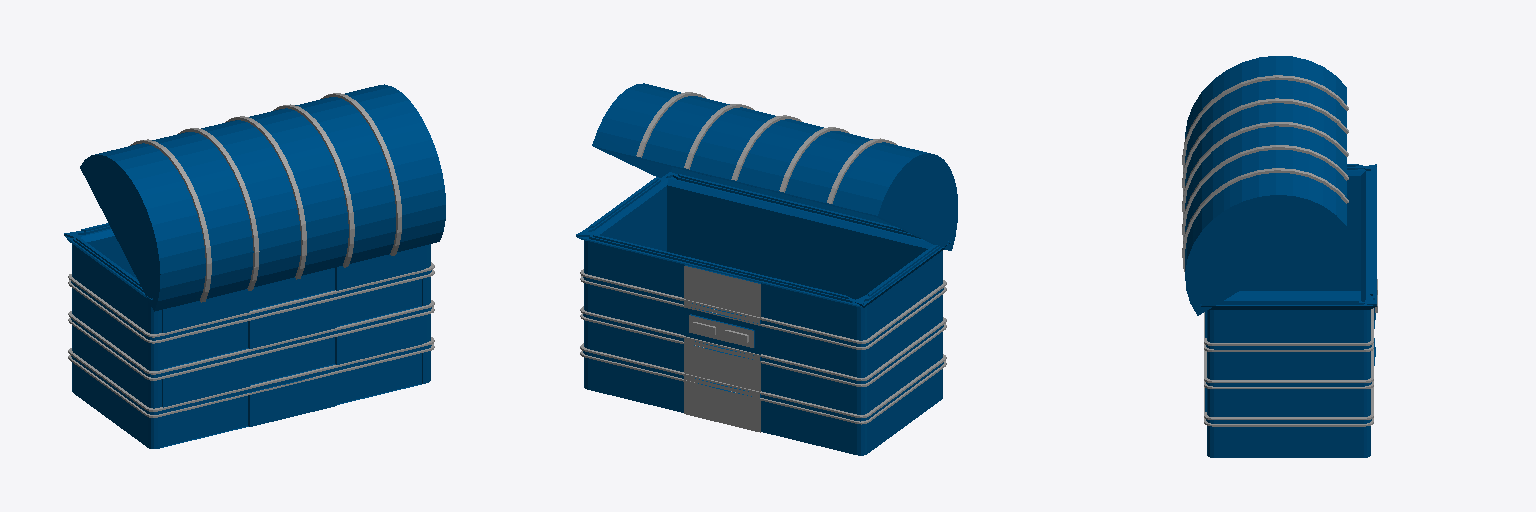
The picture shows the model from 3 angles: view 1: azimuth 30°, elevation 25°; view 2: azimuth 150°, elevation 25°; view 3: azimuth 270°, elevation 25°; orthographic projection.
Parts seen in each view (by area): view 1: Cylinder, Cube; view 2: Cube, Cylinder; view 3: Cube, Cylinder.
Boxes of the visible parts, box(x1,y1,x2,y2) form: Cylinder: box(80, 84, 445, 311); Cube: box(64, 223, 434, 448); Cube: box(576, 172, 950, 455); Cylinder: box(592, 83, 957, 250); Cube: box(1200, 164, 1377, 457); Cylinder: box(1182, 56, 1348, 315).
Size of the model in its own units: 4.05 by 3.59 by 2.39.
Materials: 5 (1 with a texture image).